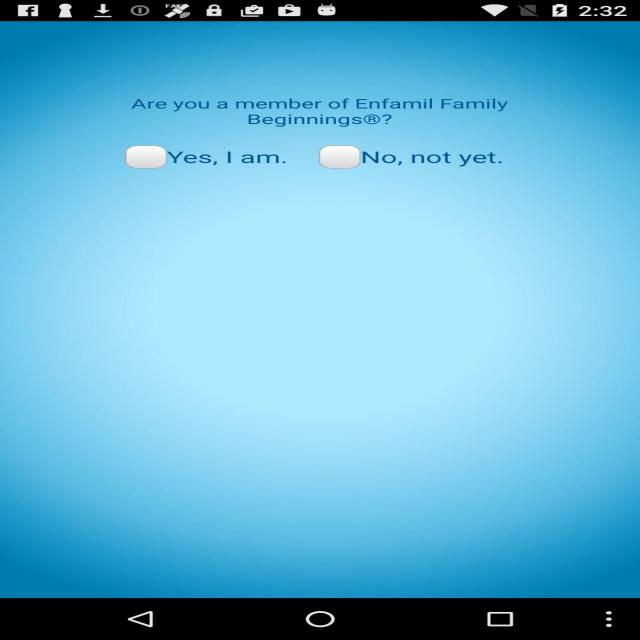button: (315, 142, 365, 175), (122, 142, 171, 172)
text: (116, 90, 515, 135), (360, 147, 505, 170), (168, 146, 292, 169)
